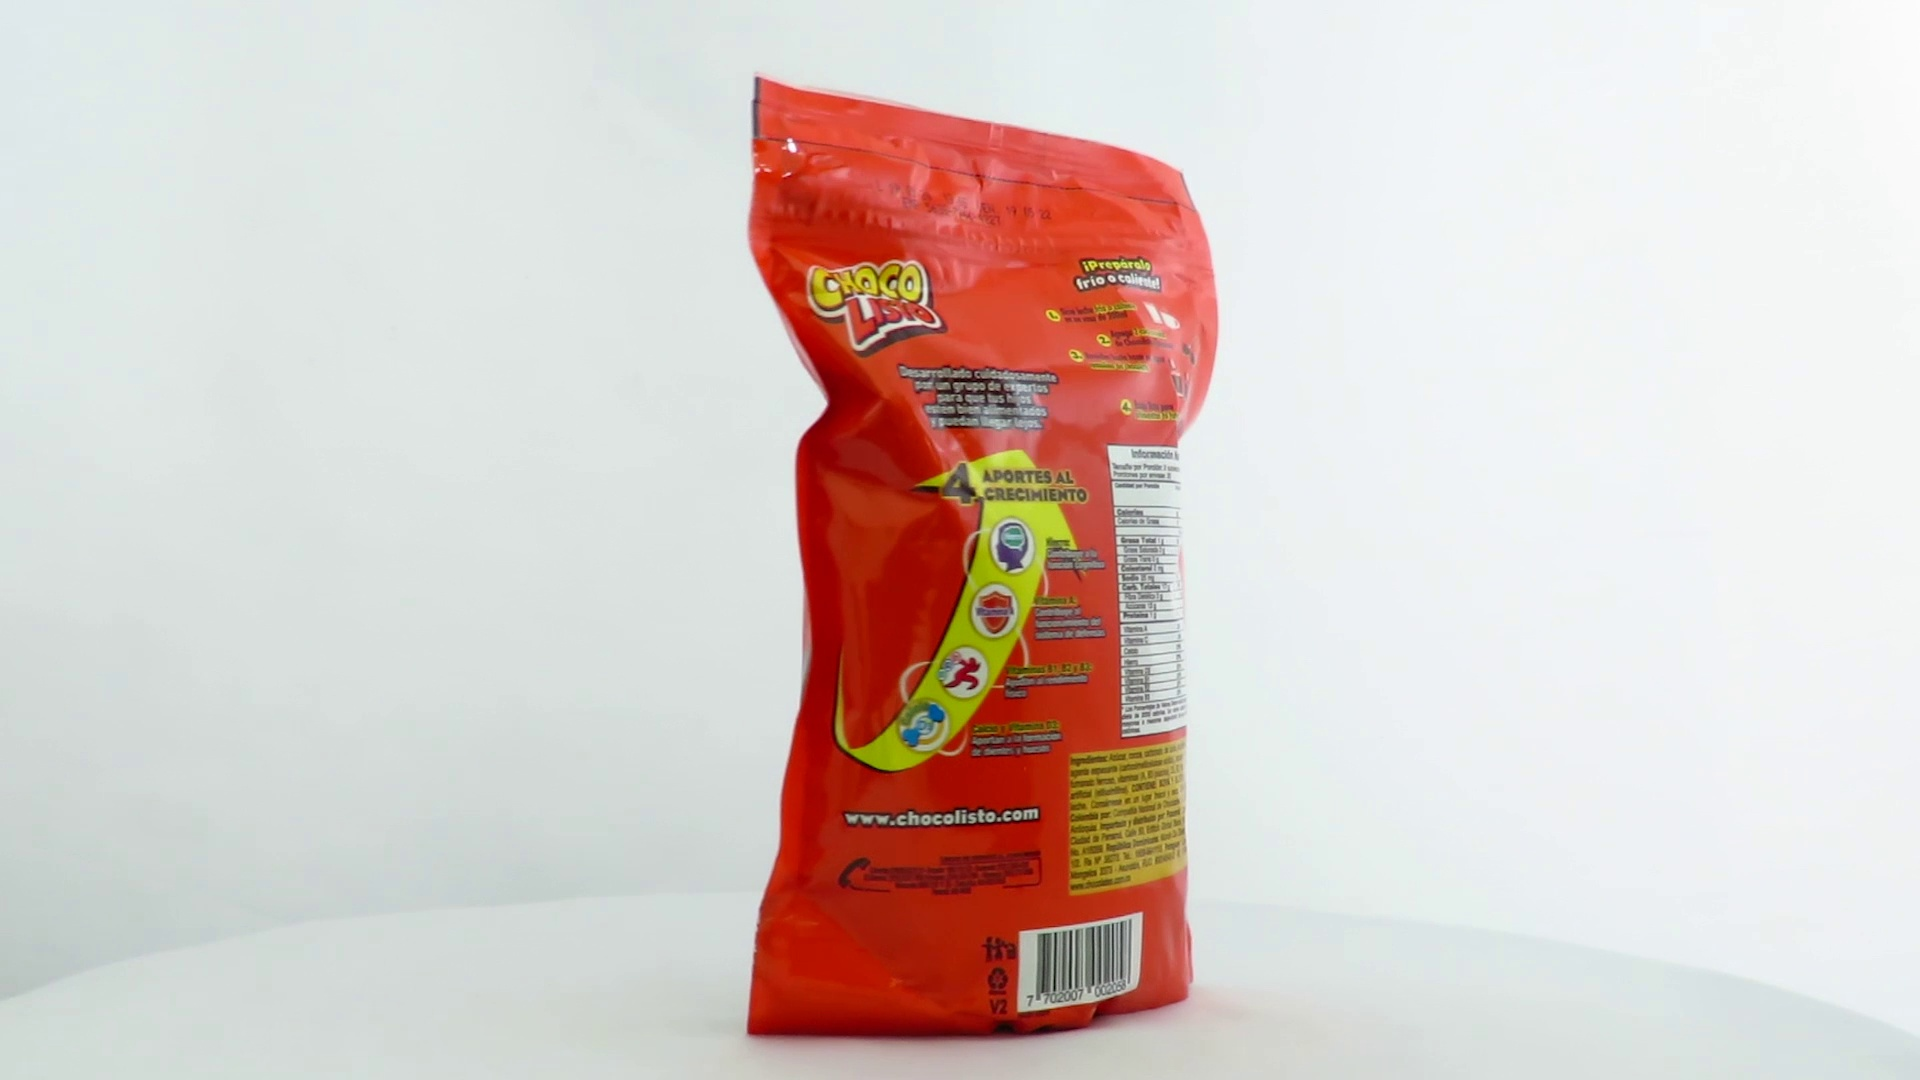COL0170103DYP40000: (742, 71, 1224, 1044)
